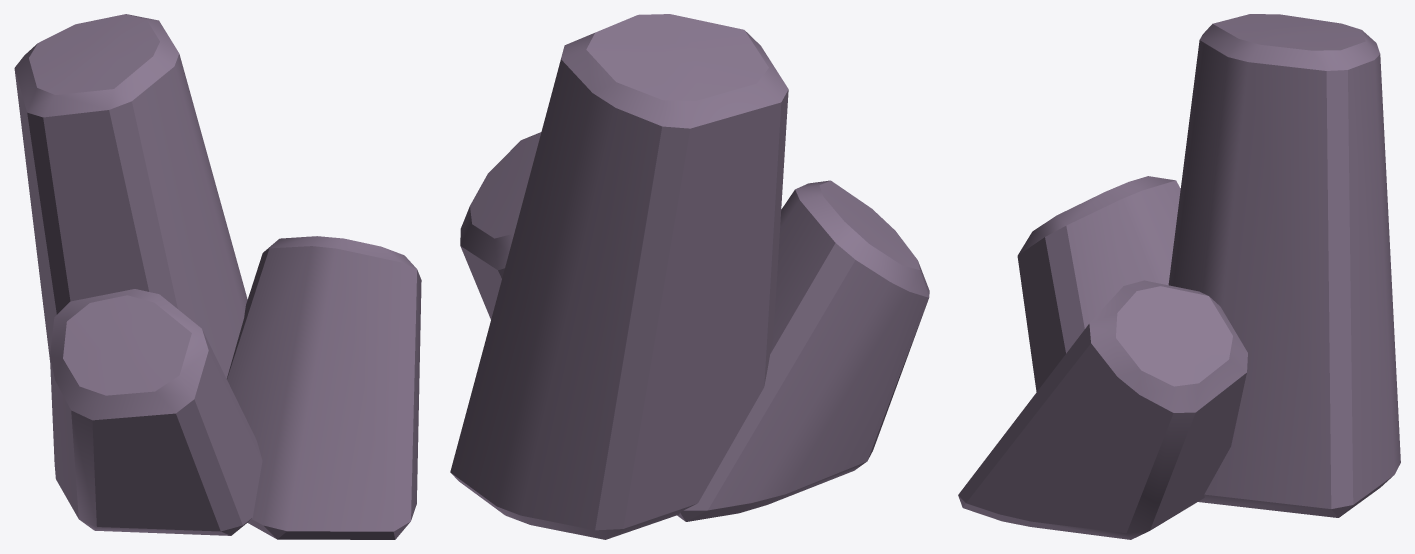
Rendered from crystal.glb.
3 views of the same model, side by side, from view 1: azimuth 30°, elevation 25°; view 2: azimuth 150°, elevation 25°; view 3: azimuth 270°, elevation 25° (orthographic). The views are drawn at different scales.
Visible parts, largest first — view 1: Crystal_Small; view 2: Crystal_Small; view 3: Crystal_Small.
Part boxes in pixels (x1,y1,x2,y2): Crystal_Small: (14,14,421,539); Crystal_Small: (450,14,929,539); Crystal_Small: (958,14,1400,539).
Bounding box in the file's own units: 0.7645 × 0.8168 × 0.7817.
Materials: 1 (1 with a texture image).
